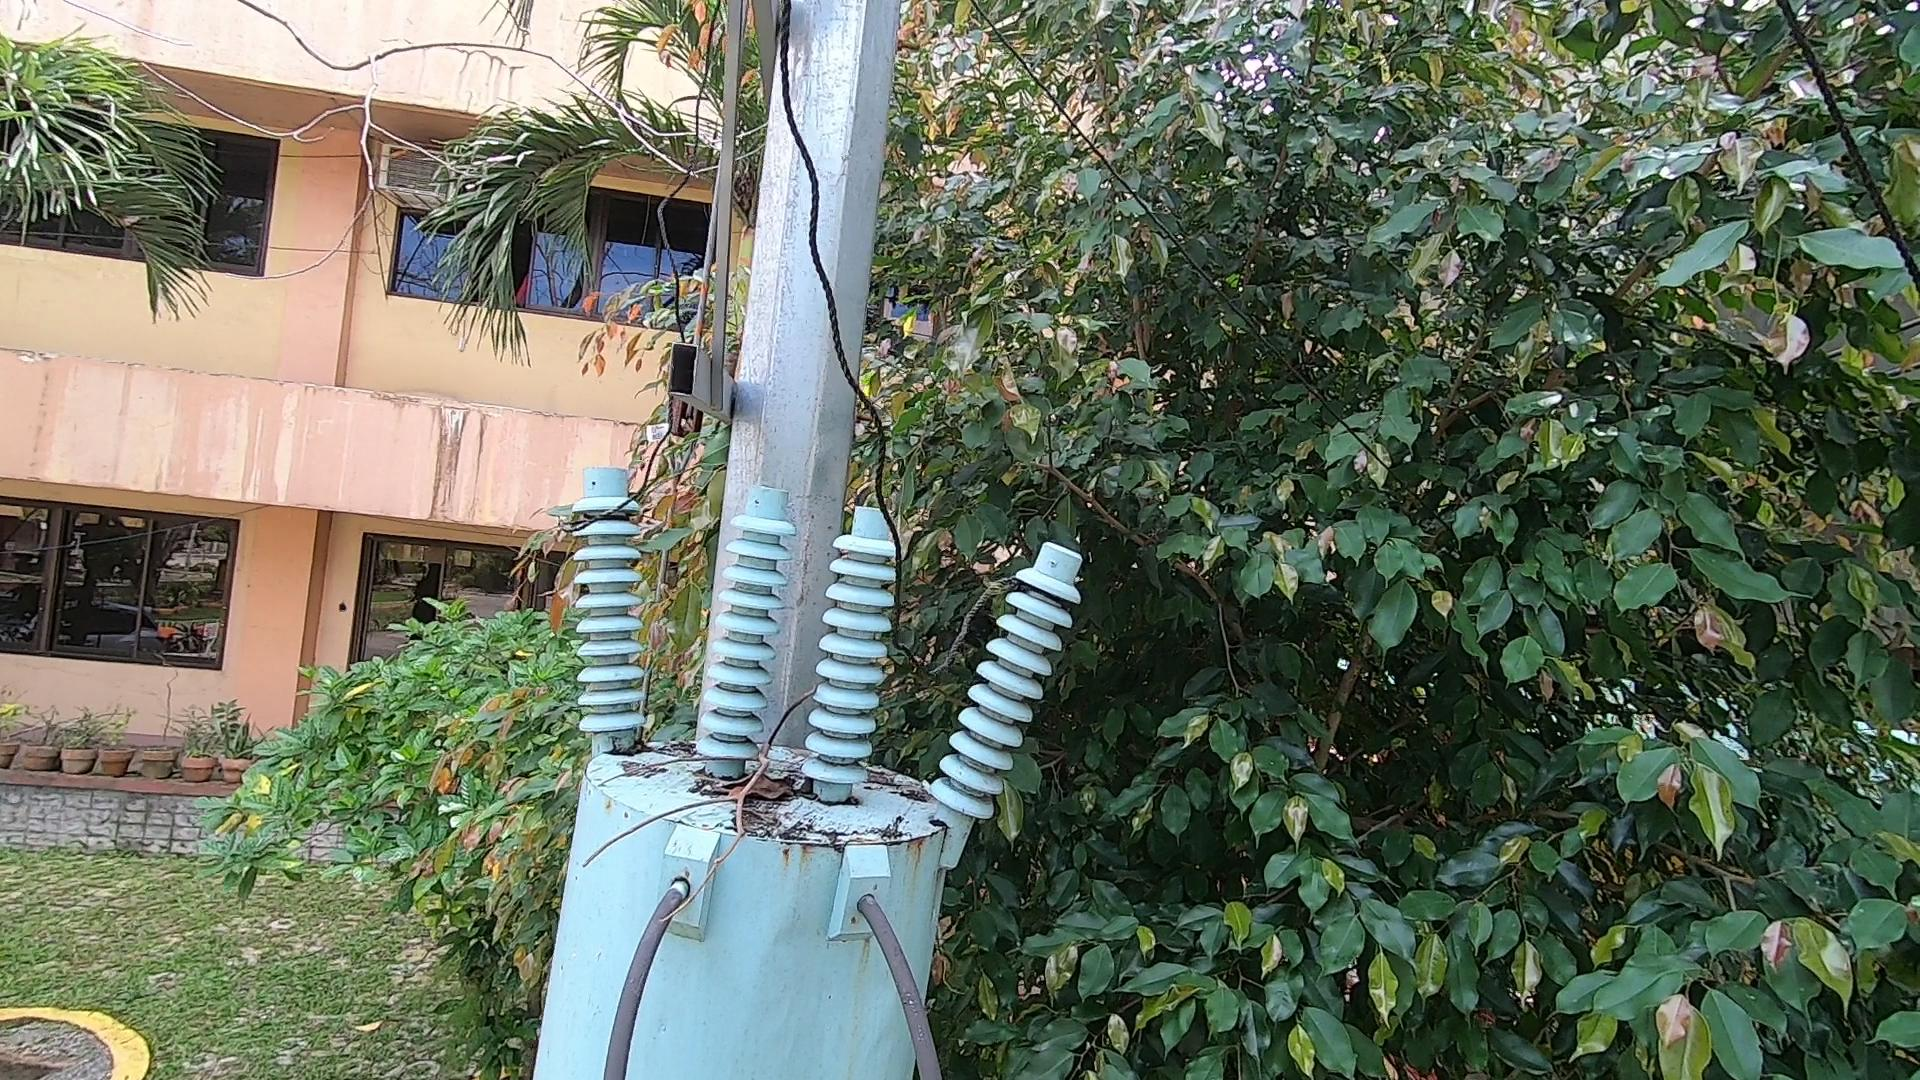leaf: (727, 760, 827, 810), (607, 727, 667, 760)
tree branch: (574, 669, 851, 923)
